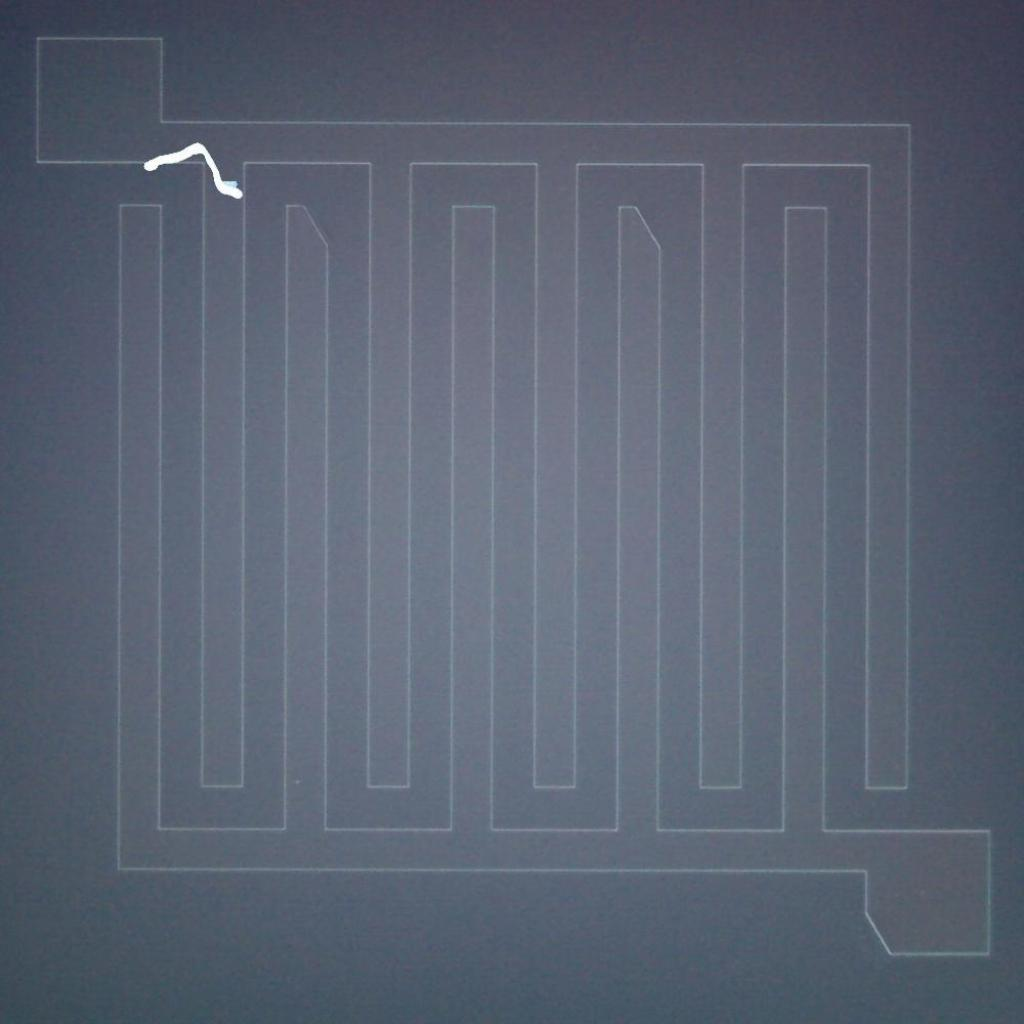edge circuit: (854, 894, 902, 963), (624, 193, 670, 264), (292, 195, 340, 260)
line: (134, 136, 247, 206)
